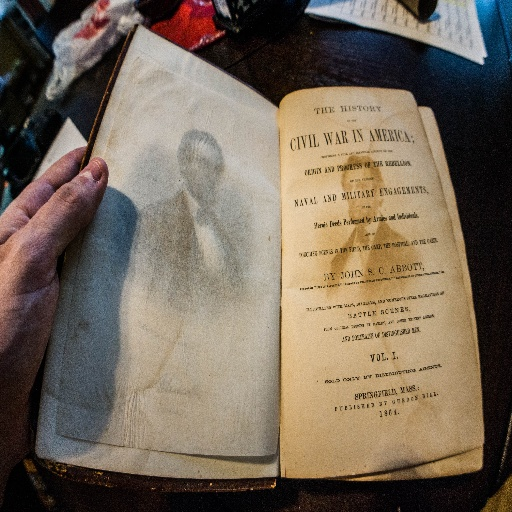hand: (2, 146, 116, 388)
